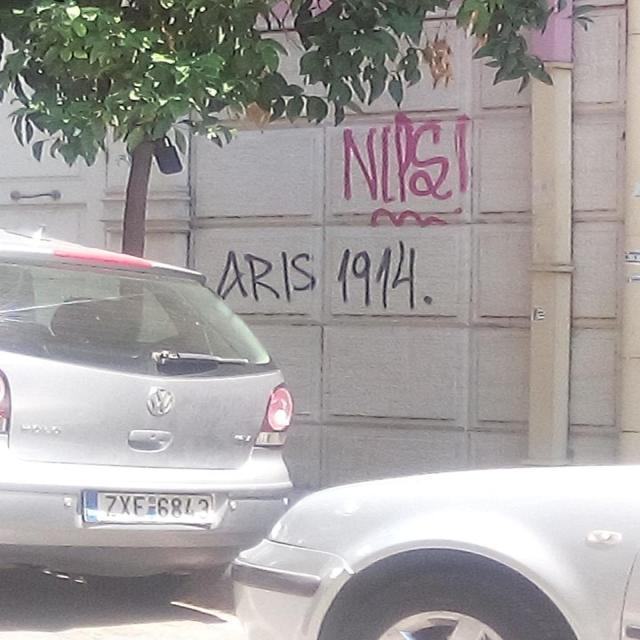nonspitting: (343, 112, 471, 229), (217, 240, 433, 309)
